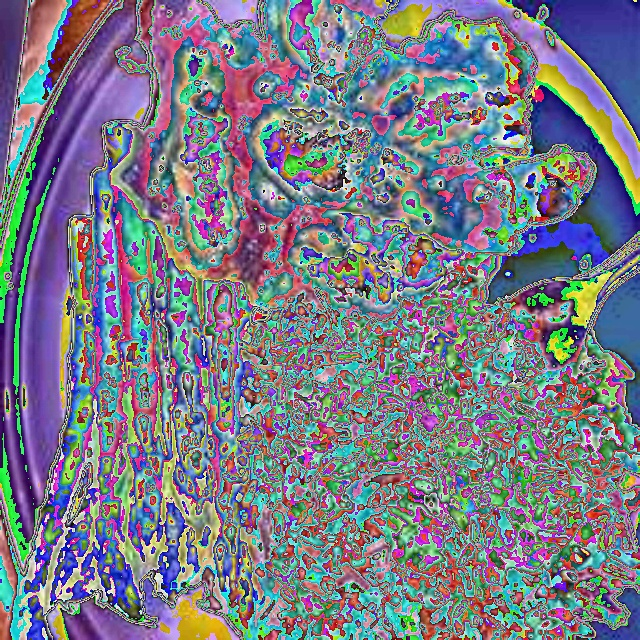background: (5, 0, 639, 640)
